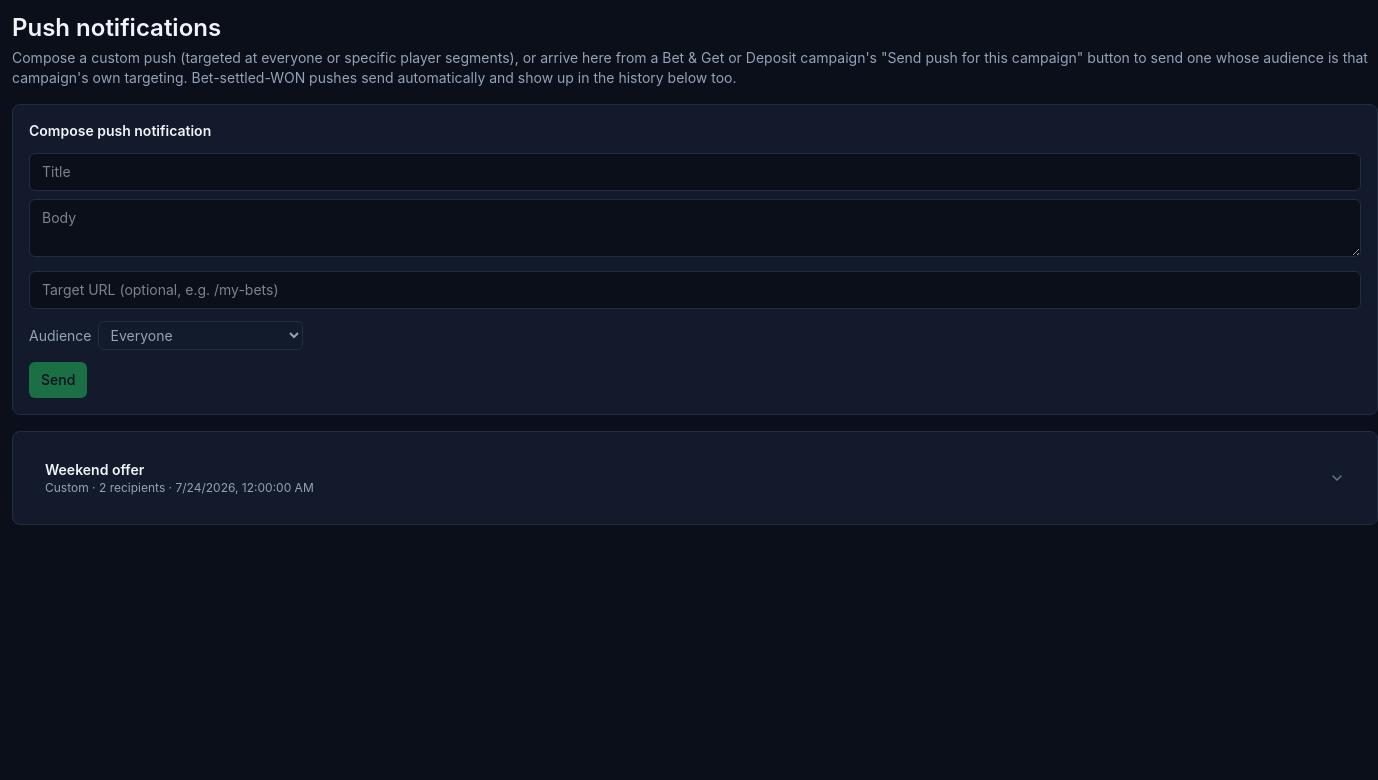
PushNotificationsPage › renders send history and expands to show per-recipient delivery status
Click the button "Weekend offer Custom · 2 recipients · 7/24/2026, 12:00:00 AM": coordinates (95, 470) [29,448,1361,508]
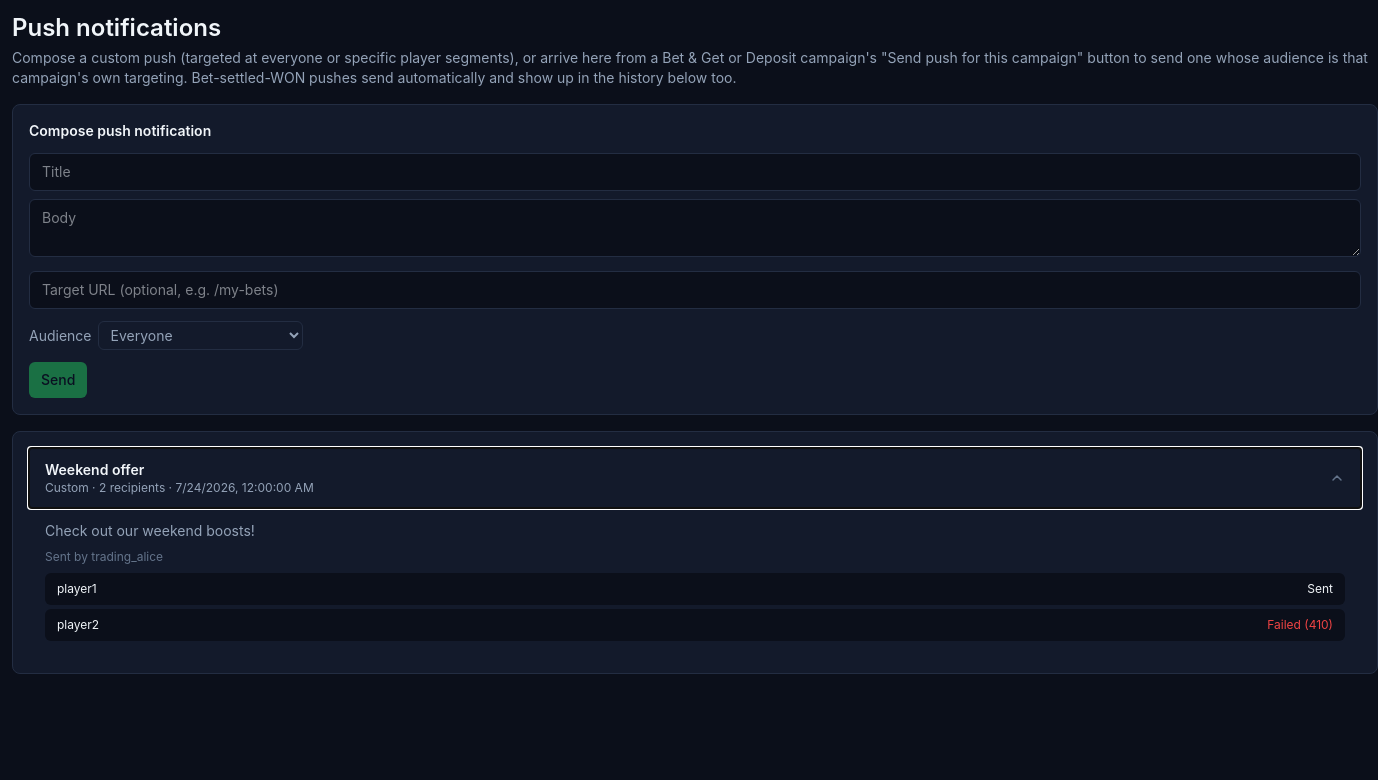
Now the text "player1" is shown, box [57,581,97,597]
Now the text "player2" is shown, box [57,617,99,633]
Now the text "Sent" is shown, box [1307,581,1333,597]
